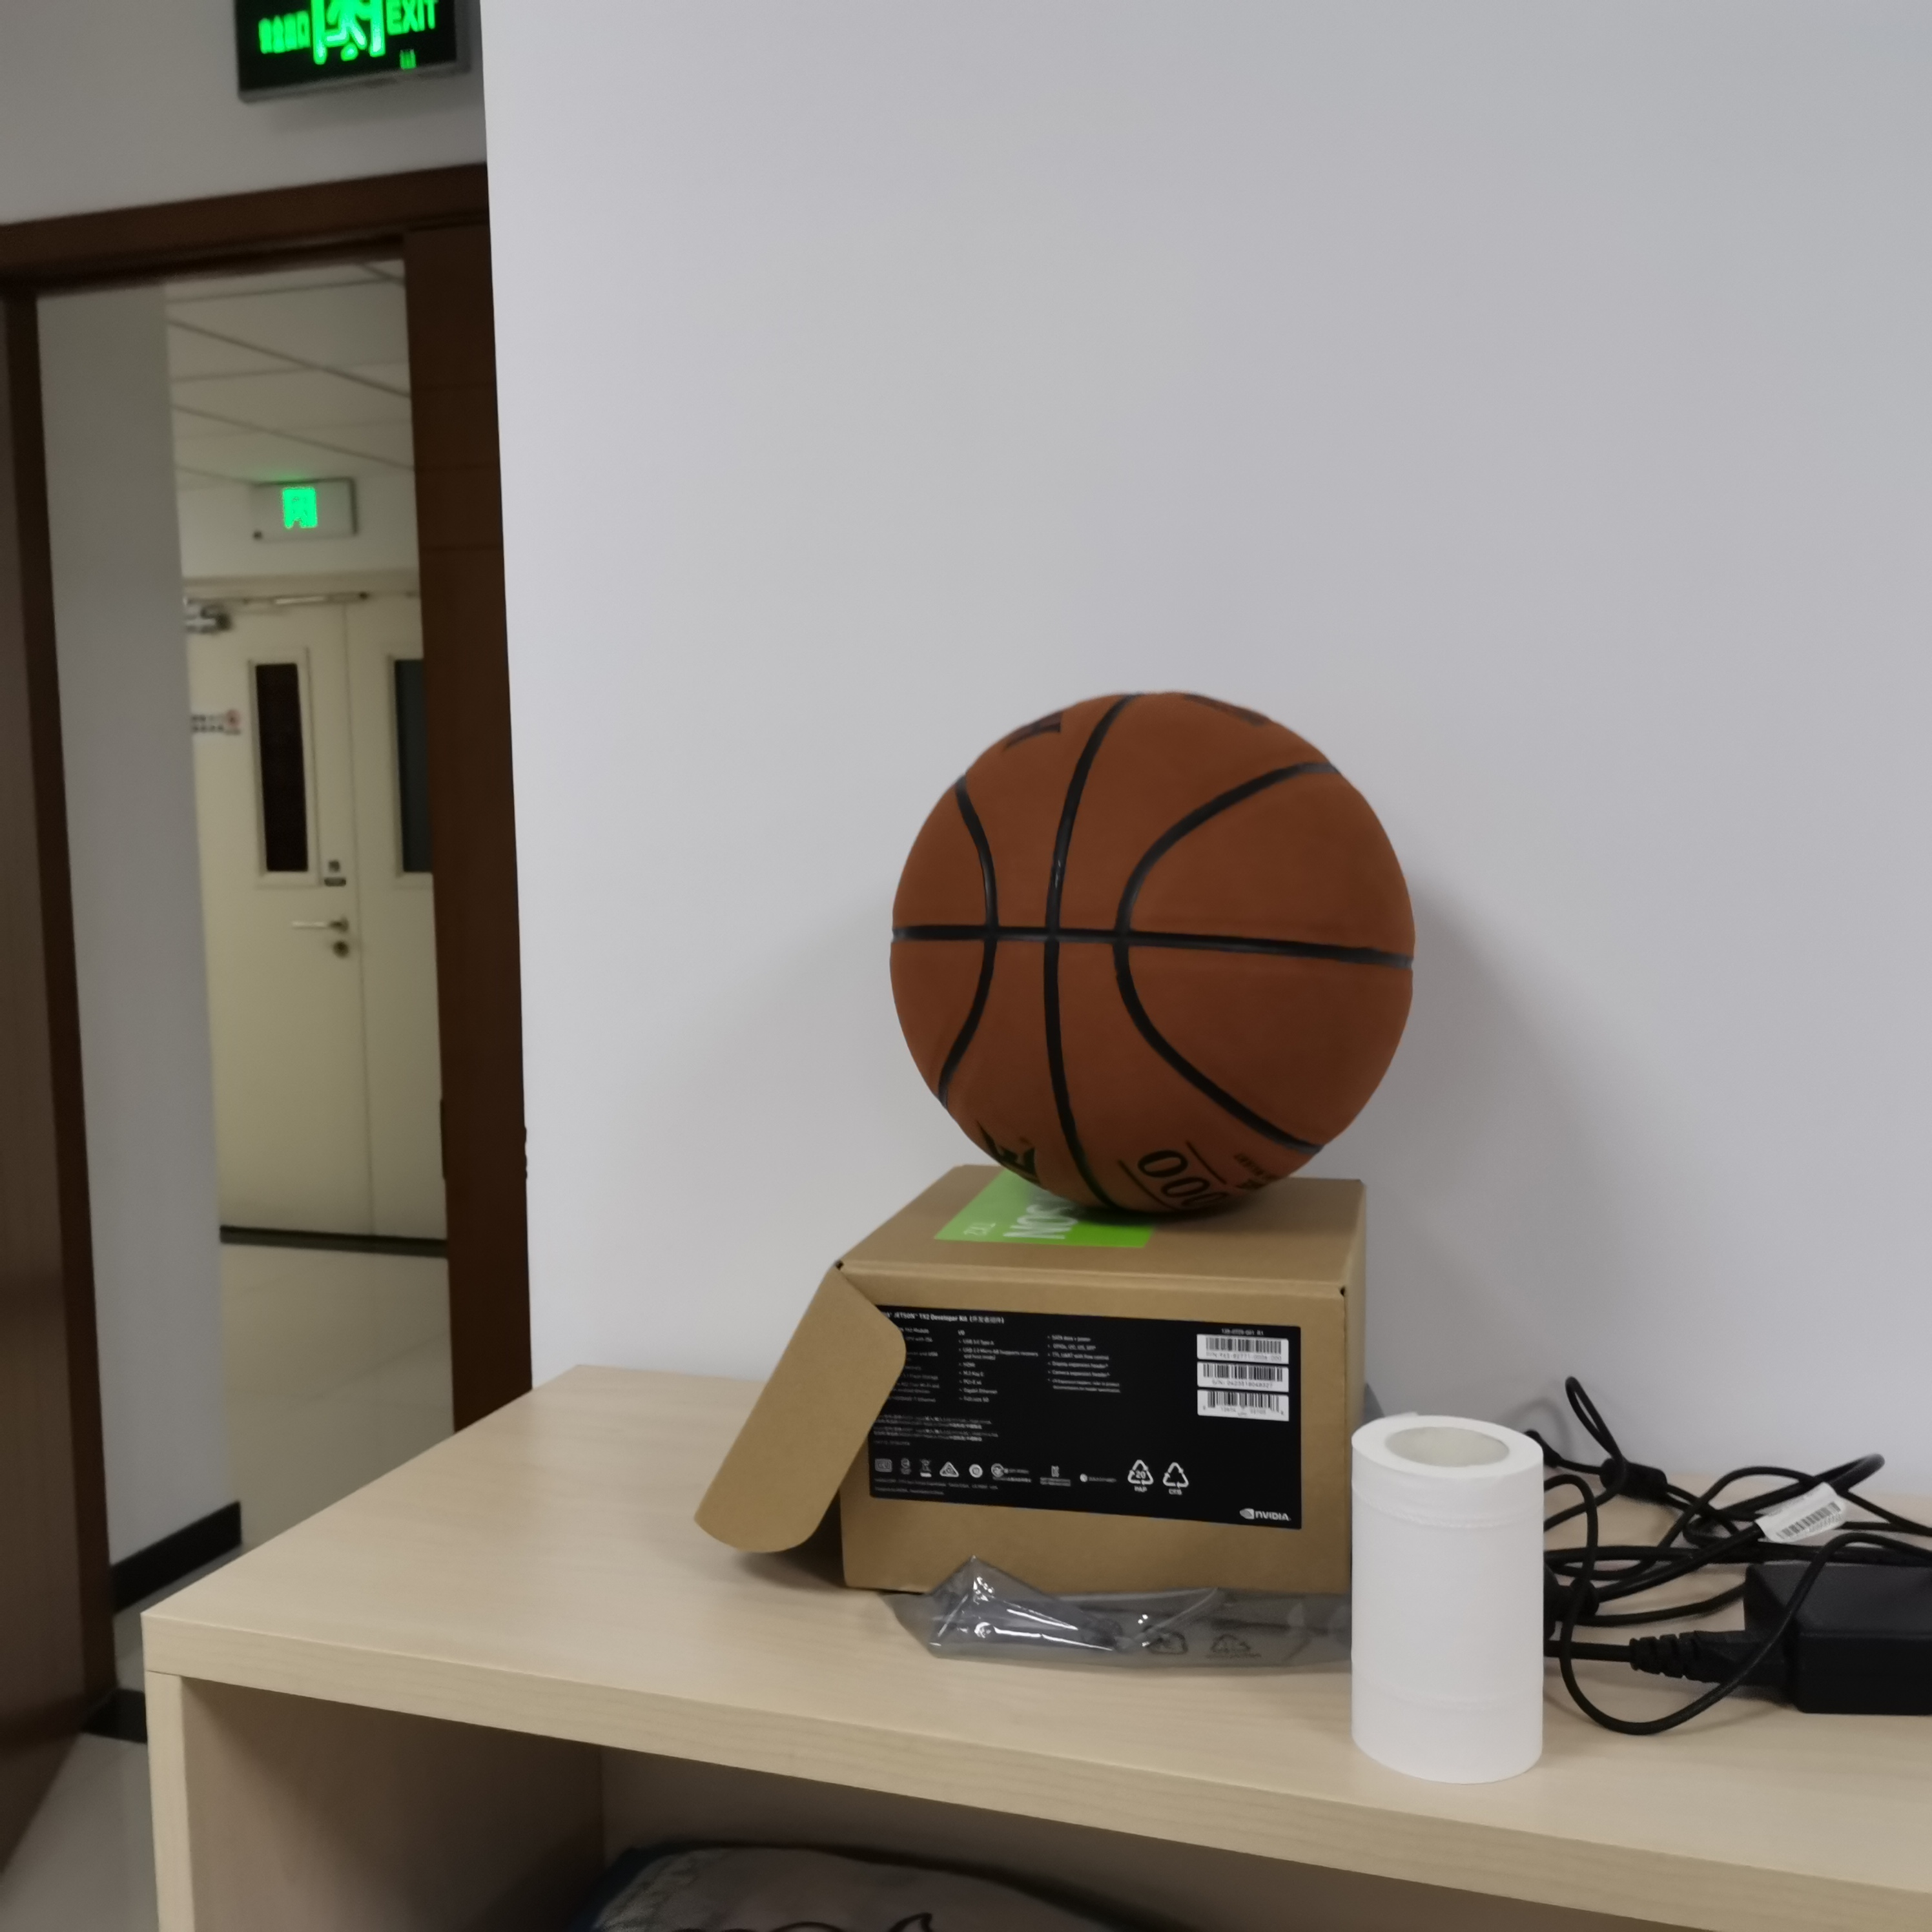basketball: (886, 692, 1422, 1224)
